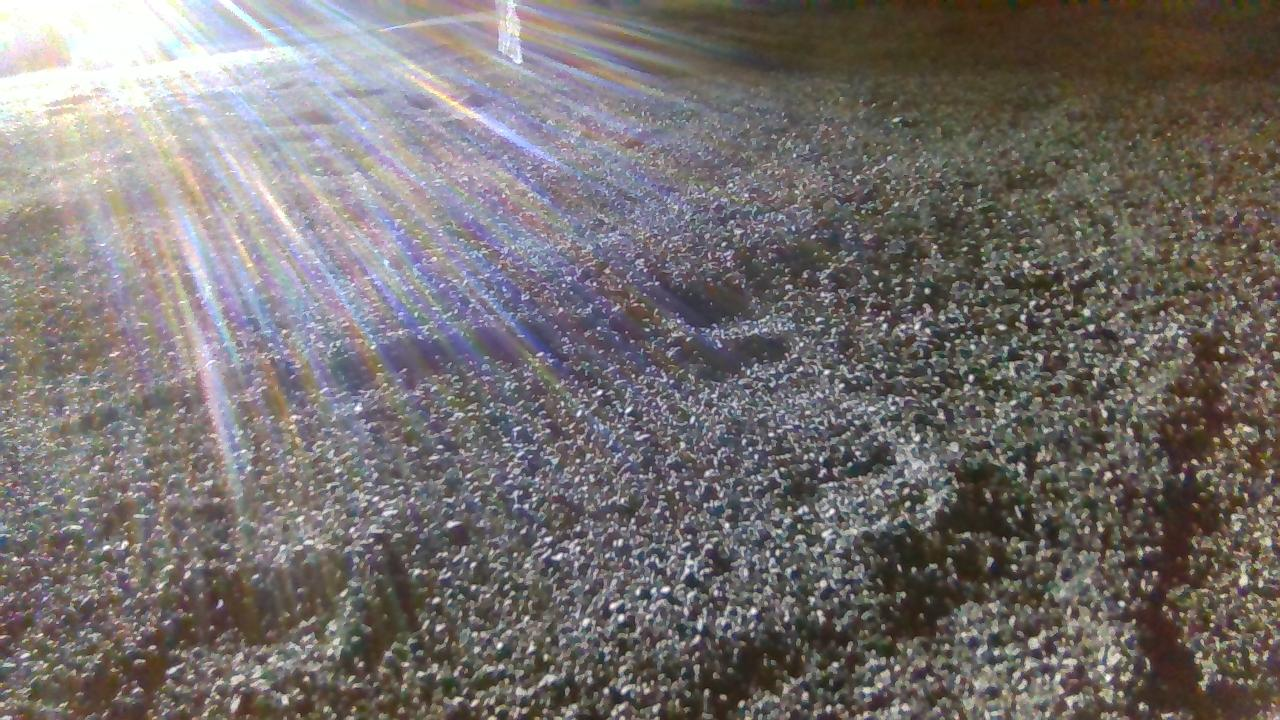rock: (496, 0, 521, 62)
